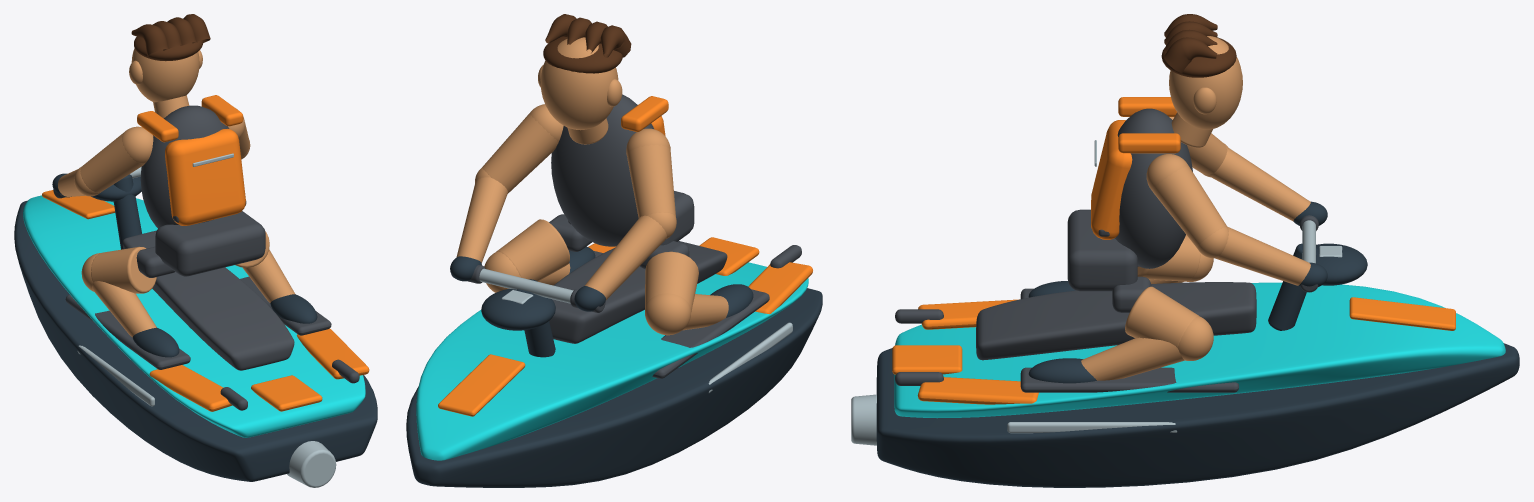
File: JetskiRider.fbx
The picture shows the model from 3 angles, left to right: view 1: azimuth 30°, elevation 25°; view 2: azimuth 150°, elevation 25°; view 3: azimuth 270°, elevation 25°; orthographic projection. The views are drawn at different scales.
Visible parts, largest first — view 1: Sculpted graphite hull, Turquoise deck, Raised padded saddle, Orange life vest back, Fitted shorts waist, Torso, Head, Bare thigh, Rear orange side panel, Upper arm, Shin, Jet outlet (+22 smaller); view 2: Sculpted graphite hull, Turquoise deck, Torso, Raised padded saddle, Head, Upper arm.001, Upper arm, Forearm, Bare thigh.001, Front orange stripe, Forearm.001, Bare thigh (+22 smaller); view 3: Sculpted graphite hull, Turquoise deck, Raised padded saddle, Torso, Fitted shorts waist, Head, Upper arm.001, Orange life vest back, Forearm, Shin.001, Rubber footwell.001, Bare thigh.001 (+20 smaller).
Boxes of the visible parts, x1,y1,x2,y2 form: Sculpted graphite hull: (14, 200, 377, 481); Turquoise deck: (23, 195, 365, 437); Raised padded saddle: (122, 230, 294, 370); Orange life vest back: (165, 128, 245, 225); Fitted shorts waist: (155, 211, 265, 276); Torso: (140, 105, 229, 228); Head: (131, 48, 199, 102); Bare thigh: (91, 246, 156, 293); Rear orange side panel: (149, 365, 232, 411); Upper arm: (80, 133, 143, 192); Shin: (92, 281, 156, 337); Jet outlet: (287, 441, 336, 487); Sculpted graphite hull: (406, 288, 822, 487); Turquoise deck: (416, 262, 808, 460); Torso: (551, 94, 653, 246); Raised padded saddle: (549, 241, 727, 343); Head: (540, 37, 618, 130); Upper arm.001: (482, 113, 558, 192); Upper arm: (627, 144, 675, 218); Forearm: (584, 215, 666, 299); Bare thigh.001: (496, 219, 569, 281); Front orange stripe: (438, 354, 525, 416); Forearm.001: (456, 177, 507, 262); Bare thigh: (645, 251, 698, 311); Sculpted graphite hull: (876, 343, 1519, 487); Turquoise deck: (894, 282, 1505, 418); Raised padded saddle: (976, 282, 1256, 360); Torso: (1115, 108, 1192, 268); Fitted shorts waist: (1067, 209, 1137, 291); Head: (1169, 36, 1242, 129); Upper arm.001: (1152, 165, 1226, 247); Orange life vest back: (1091, 120, 1132, 239); Forearm: (1211, 148, 1310, 221); Shin.001: (1081, 337, 1184, 380); Rubber footwell.001: (1020, 367, 1238, 392); Bare thigh.001: (1125, 286, 1198, 347).
Bounding box in the file's own units: 142 × 236 × 343.
